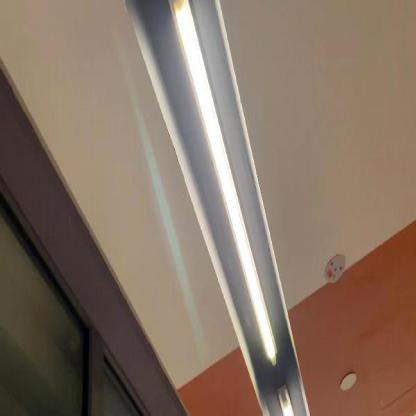light_on: (168, 0, 322, 380), (270, 389, 296, 415)
